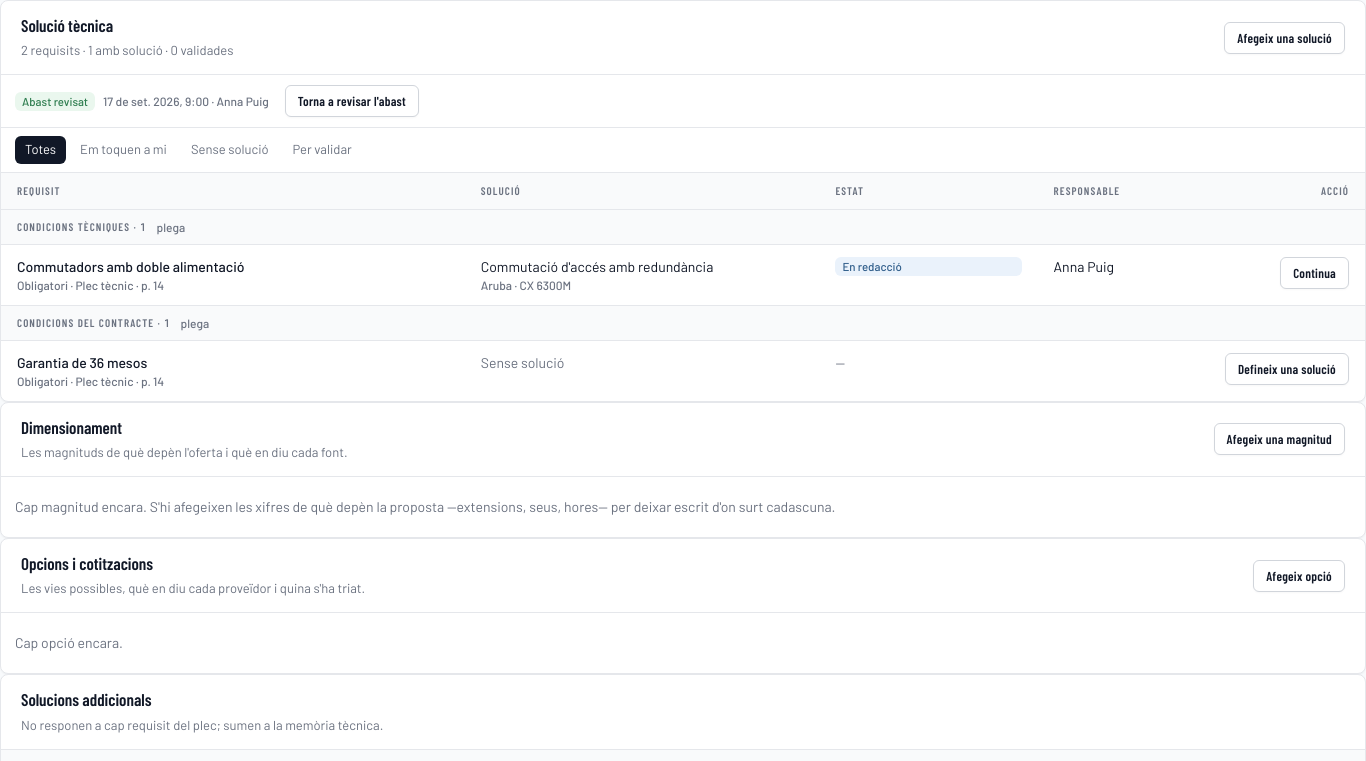
Scenario: Solució tècnica · edició › la fila s'expandeix a dins, amb el requisit i la cita literal al costat
Click the button "Continua": (1315, 273) [1280,257,1349,289]
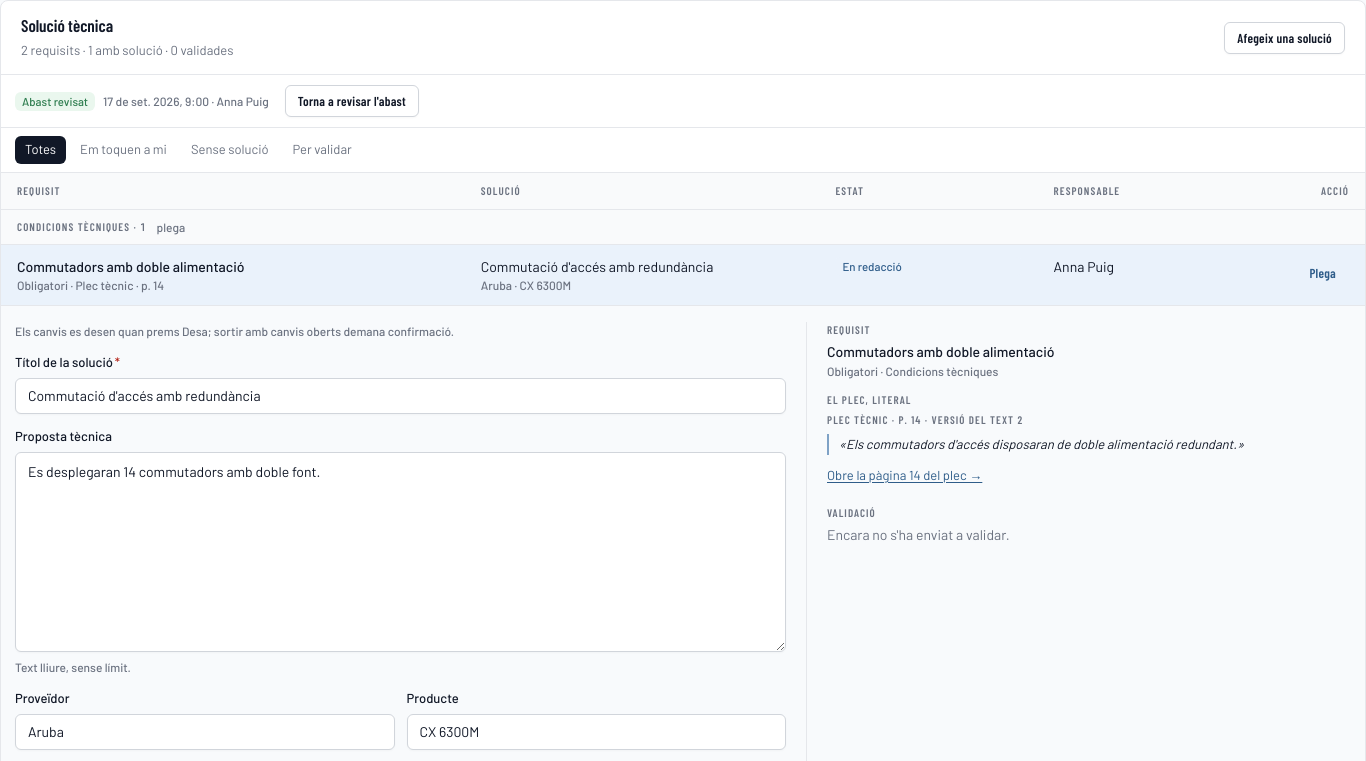
expect the text box labelled "Proposta tècnica Text lliure, sense límit." is shown: met, box [15,452,786,652]
expect the text "El plec, literal" is shown: met, box [827,393,911,406]
expect the text "Els commutadors d'accés disposaran de doble alimentació redundant." is shown: met, box [846,436,1237,452]
